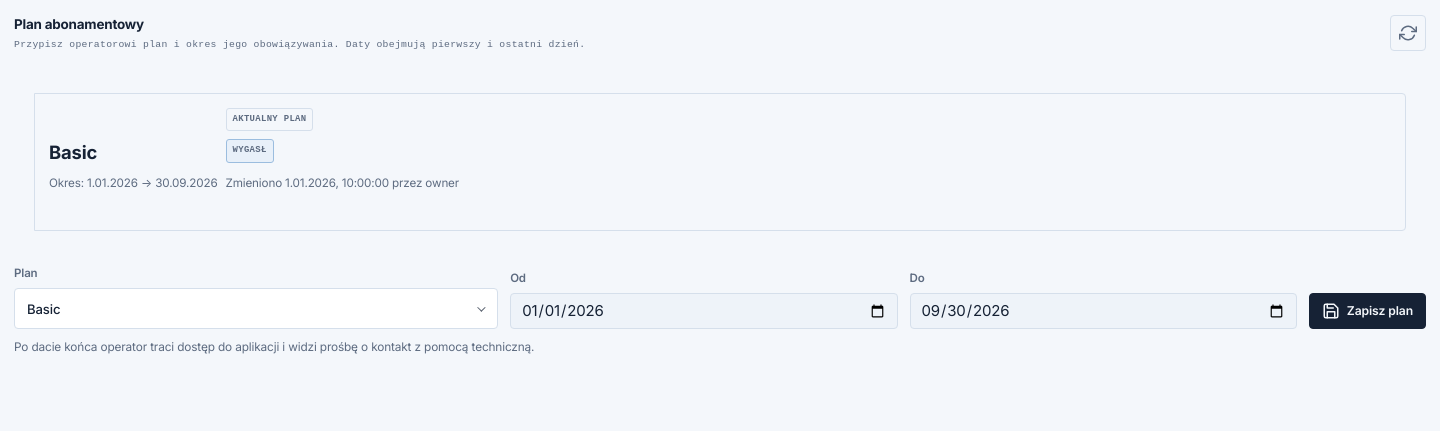
it: OperatorSubscriptionPanel › changes plan and validity period
Expected: the button "Zapisz plan" is enabled, x1=1309 y1=293 x2=1426 y2=329
Replace the text in the dropdown named "Plan" with "ENTERPRISE" at (44,309), box x1=15 y1=289 x2=497 y2=328
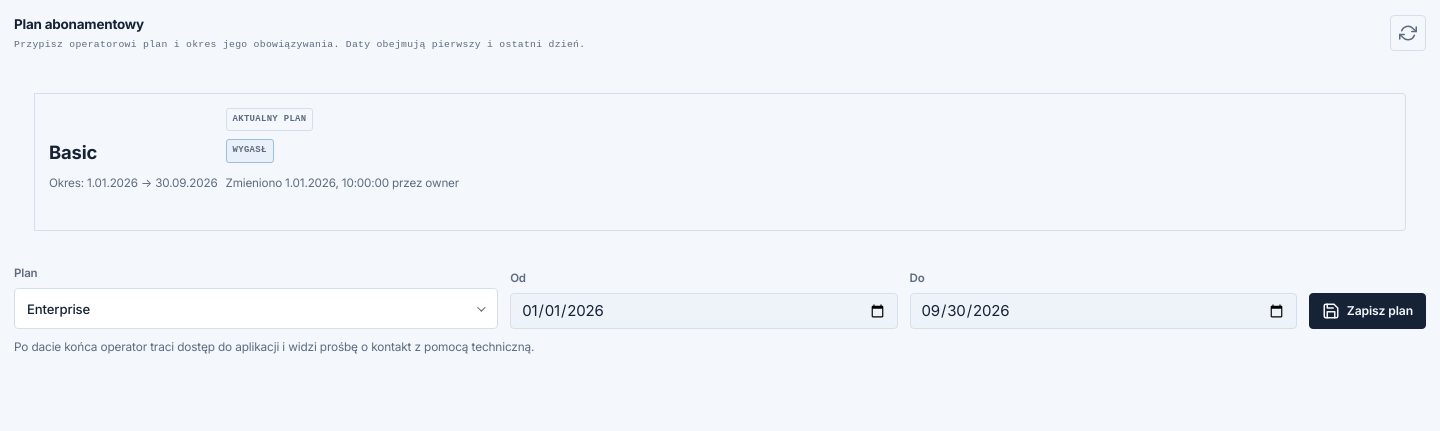
Type "2026-10-01" into the date field labelled "Od" at (704,311), box x1=510 y1=293 x2=898 y2=329
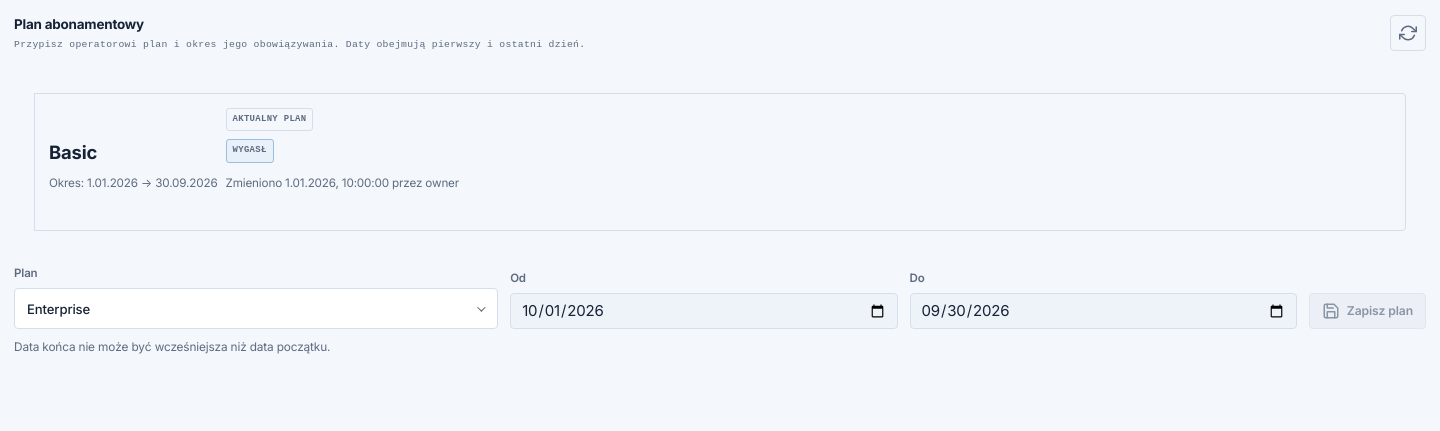
Type "2027-09-30" into the date field labelled "Do" at (1103,311), box x1=910 y1=293 x2=1297 y2=329
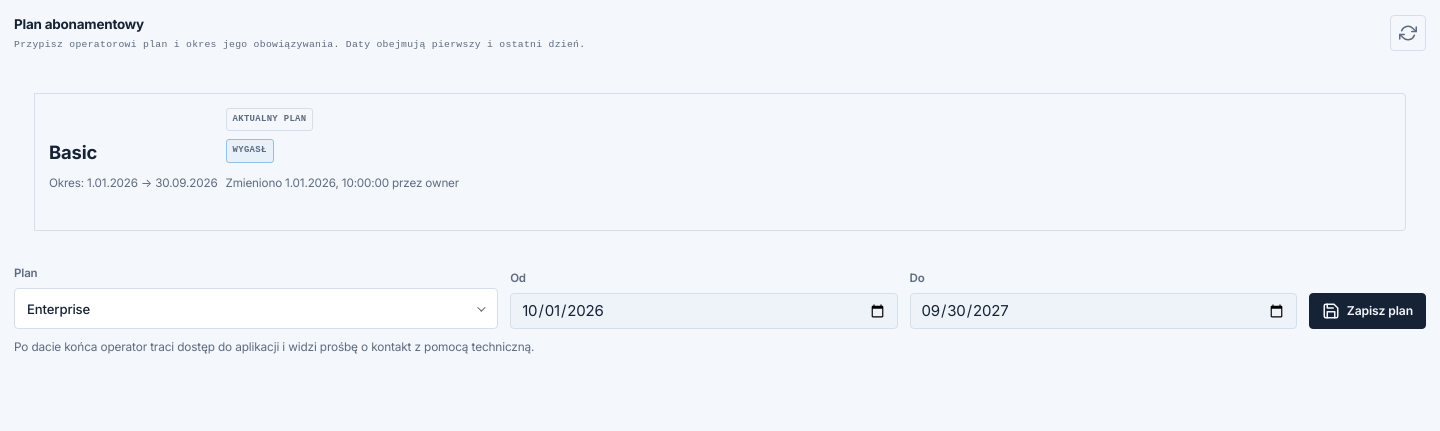
Click the button "Zapisz plan" at (1367,311), box x1=1309 y1=293 x2=1426 y2=329
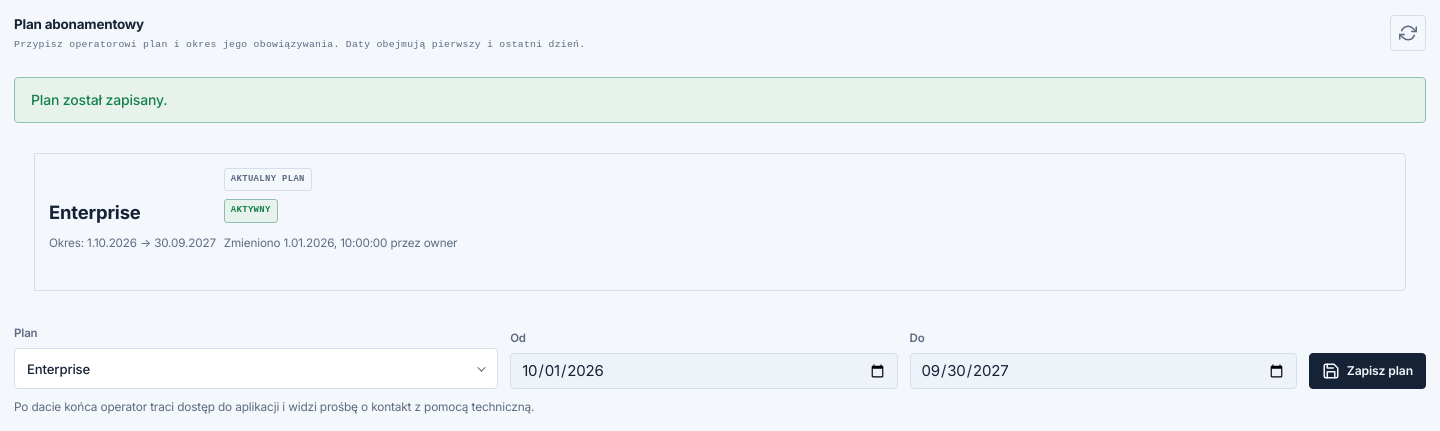
Expected: the text "Plan został zapisany." is shown, x1=31 y1=91 x2=168 y2=108
Expected: the text "Aktywny" is shown, x1=224 y1=199 x2=278 y2=223
